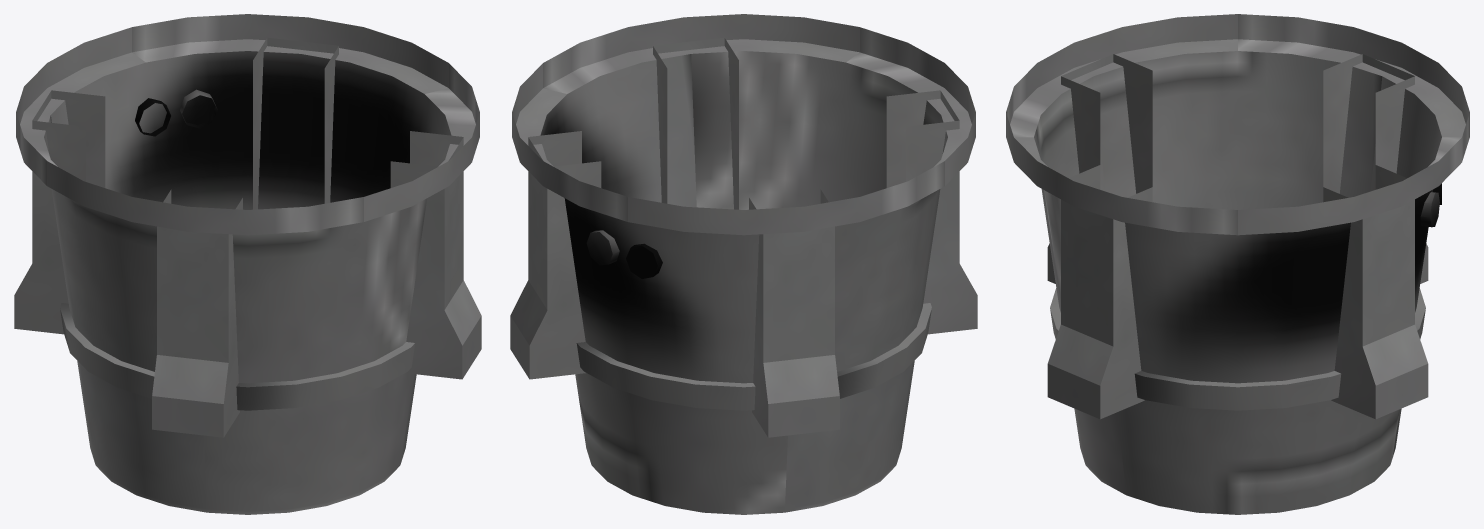
Rendered from science_container.obj.
3 views of the same model, side by side, from view 1: azimuth 30°, elevation 25°; view 2: azimuth 150°, elevation 25°; view 3: azimuth 270°, elevation 25° (orthographic).
Parts seen in each view (by area): view 1: science_container; view 2: science_container; view 3: science_container.
Boxes of the visible parts, x1,y1,x2,y2 form: science_container: (14, 14, 481, 514); science_container: (510, 14, 977, 514); science_container: (1006, 14, 1469, 514).
Size of the model in its own units: 0.625 by 0.525 by 0.625.
